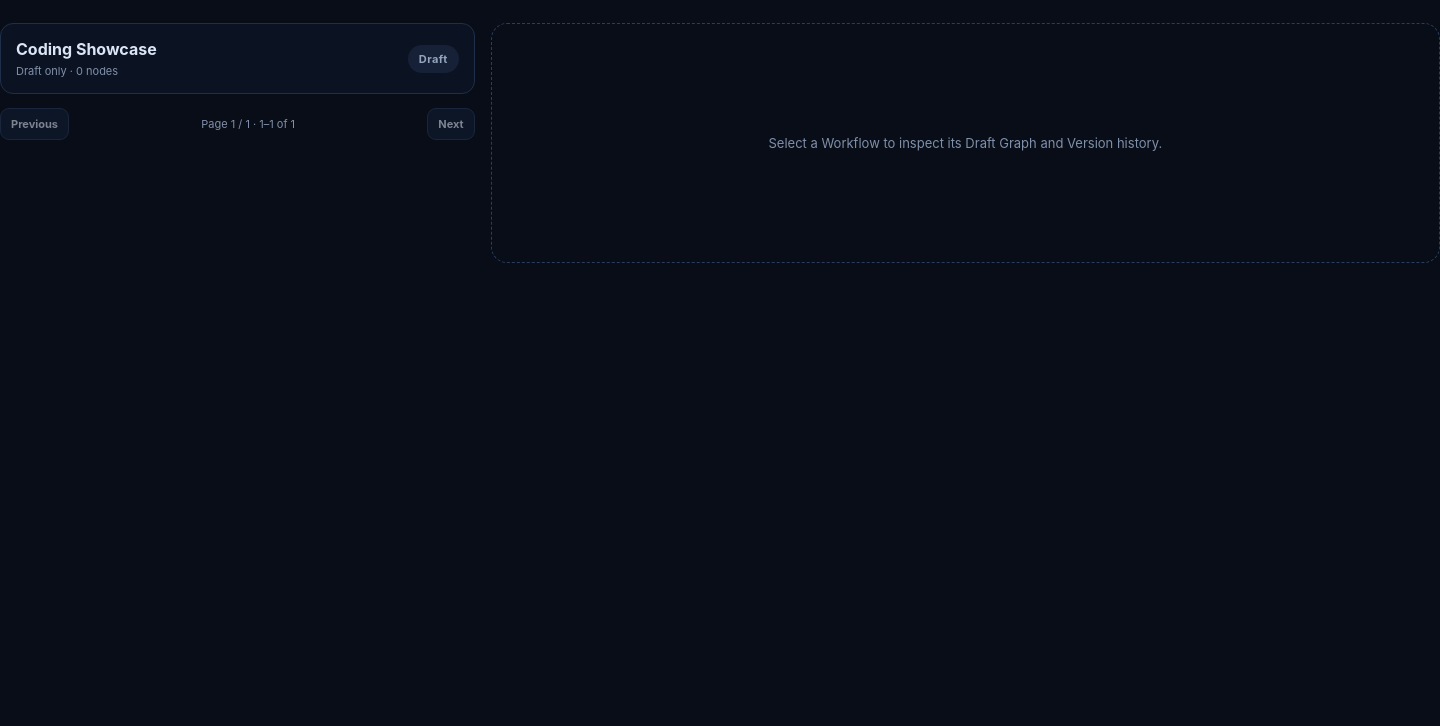
Scenario: WorkflowsPage › loads a draft, saves it, creates a version, and makes history read only
Step 1. Click the button "Coding Showcase Draft only · 0 nodes Draft" → {"x": 86, "y": 49}, box [0,23,475,94]
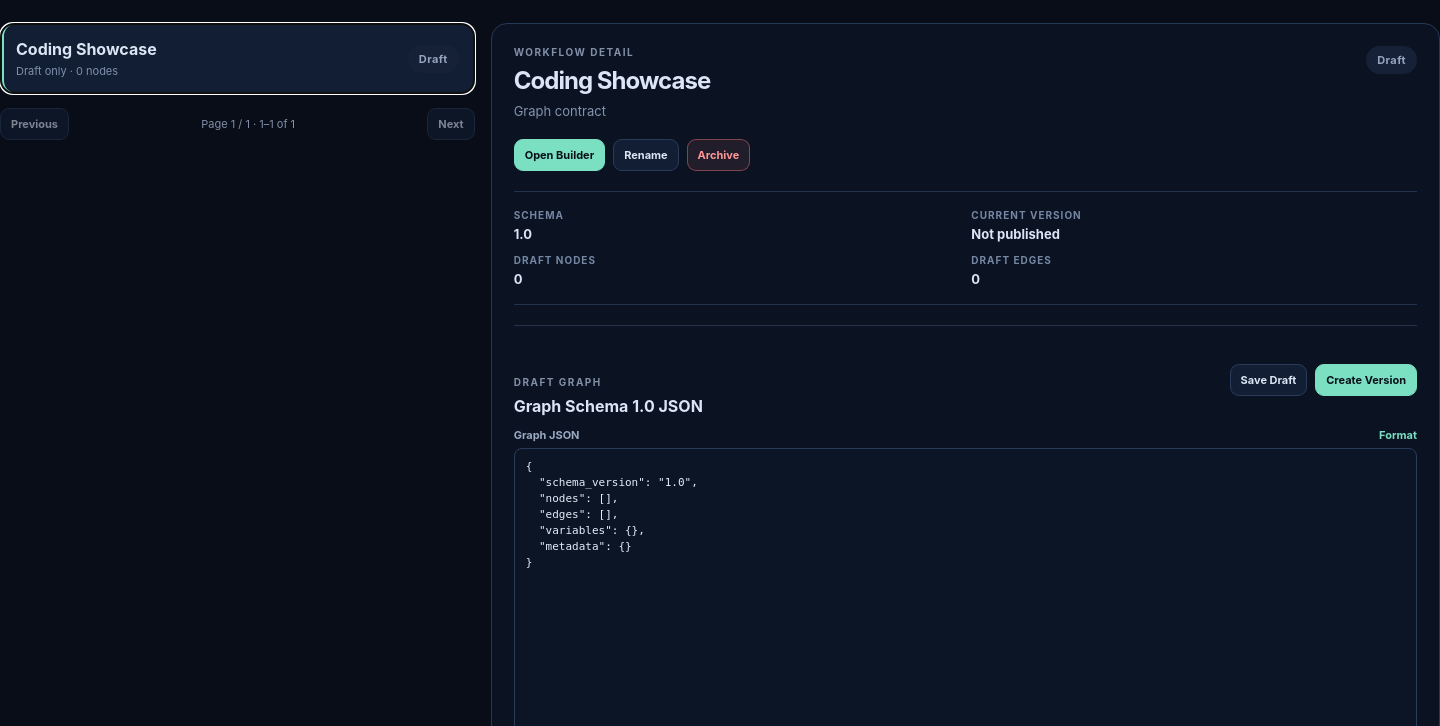
Expected: the heading "Graph Schema 1.0 JSON" is shown, [514,396,703,416]
Step 2. Click the button "Save Draft" → {"x": 1268, "y": 380}, box [1230,364,1307,396]
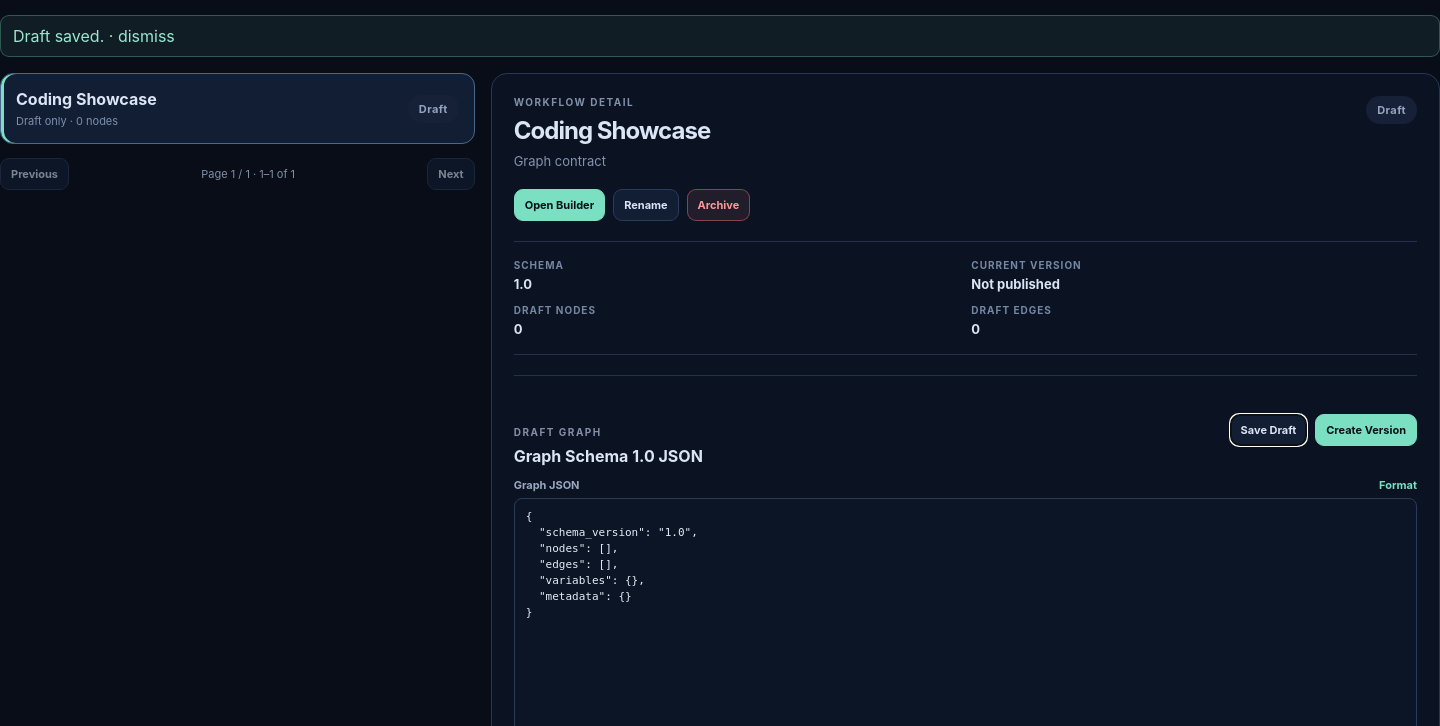
Step 3. Click the button "Create Version" → {"x": 1366, "y": 430}, box [1315,414,1417,446]
(page scrolled)
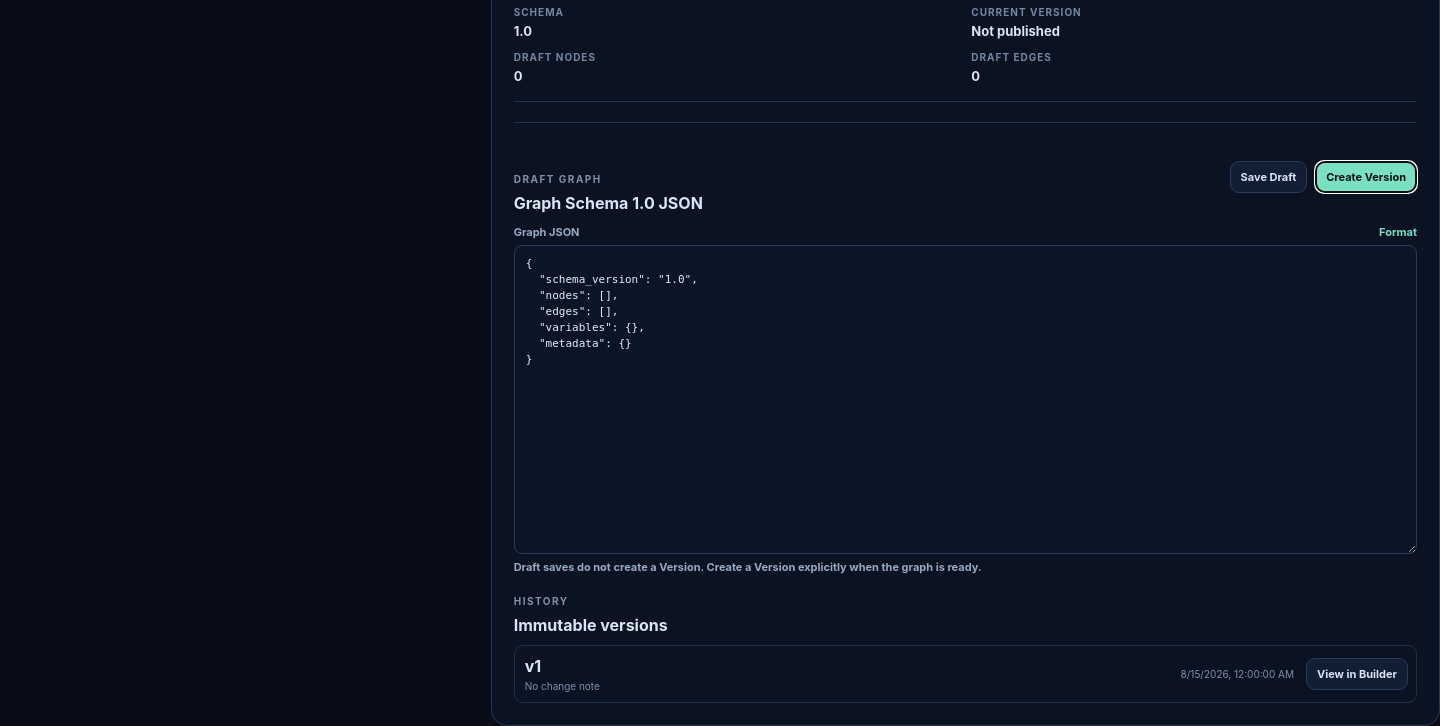
Expected: the button "v1 No change note 8/15/2026, 12:00:00 AM" is shown
Step 4. Click the button "v1 No change note 8/15/2026, 12:00:00 AM" → {"x": 562, "y": 686}, box [523,654,1296,694]
(page scrolled)
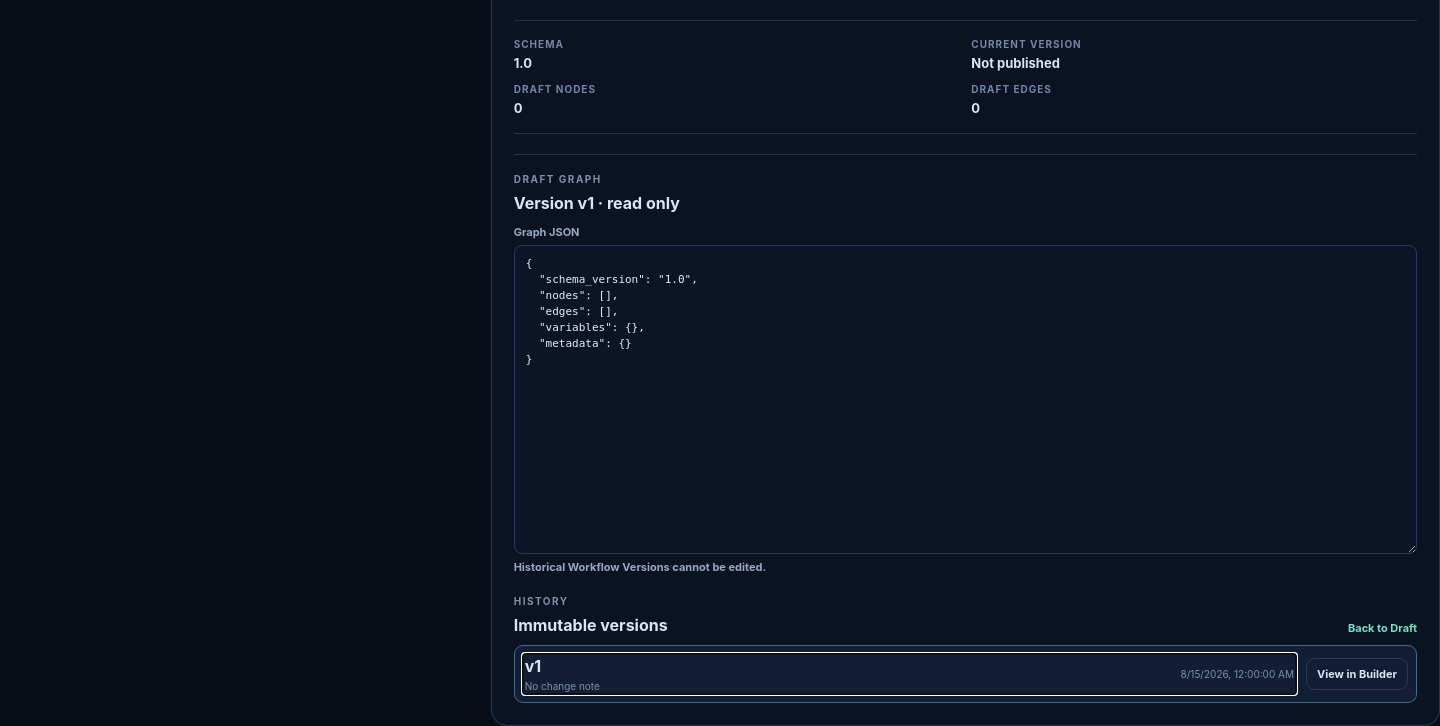
Expected: the button "Save Draft" is gone
